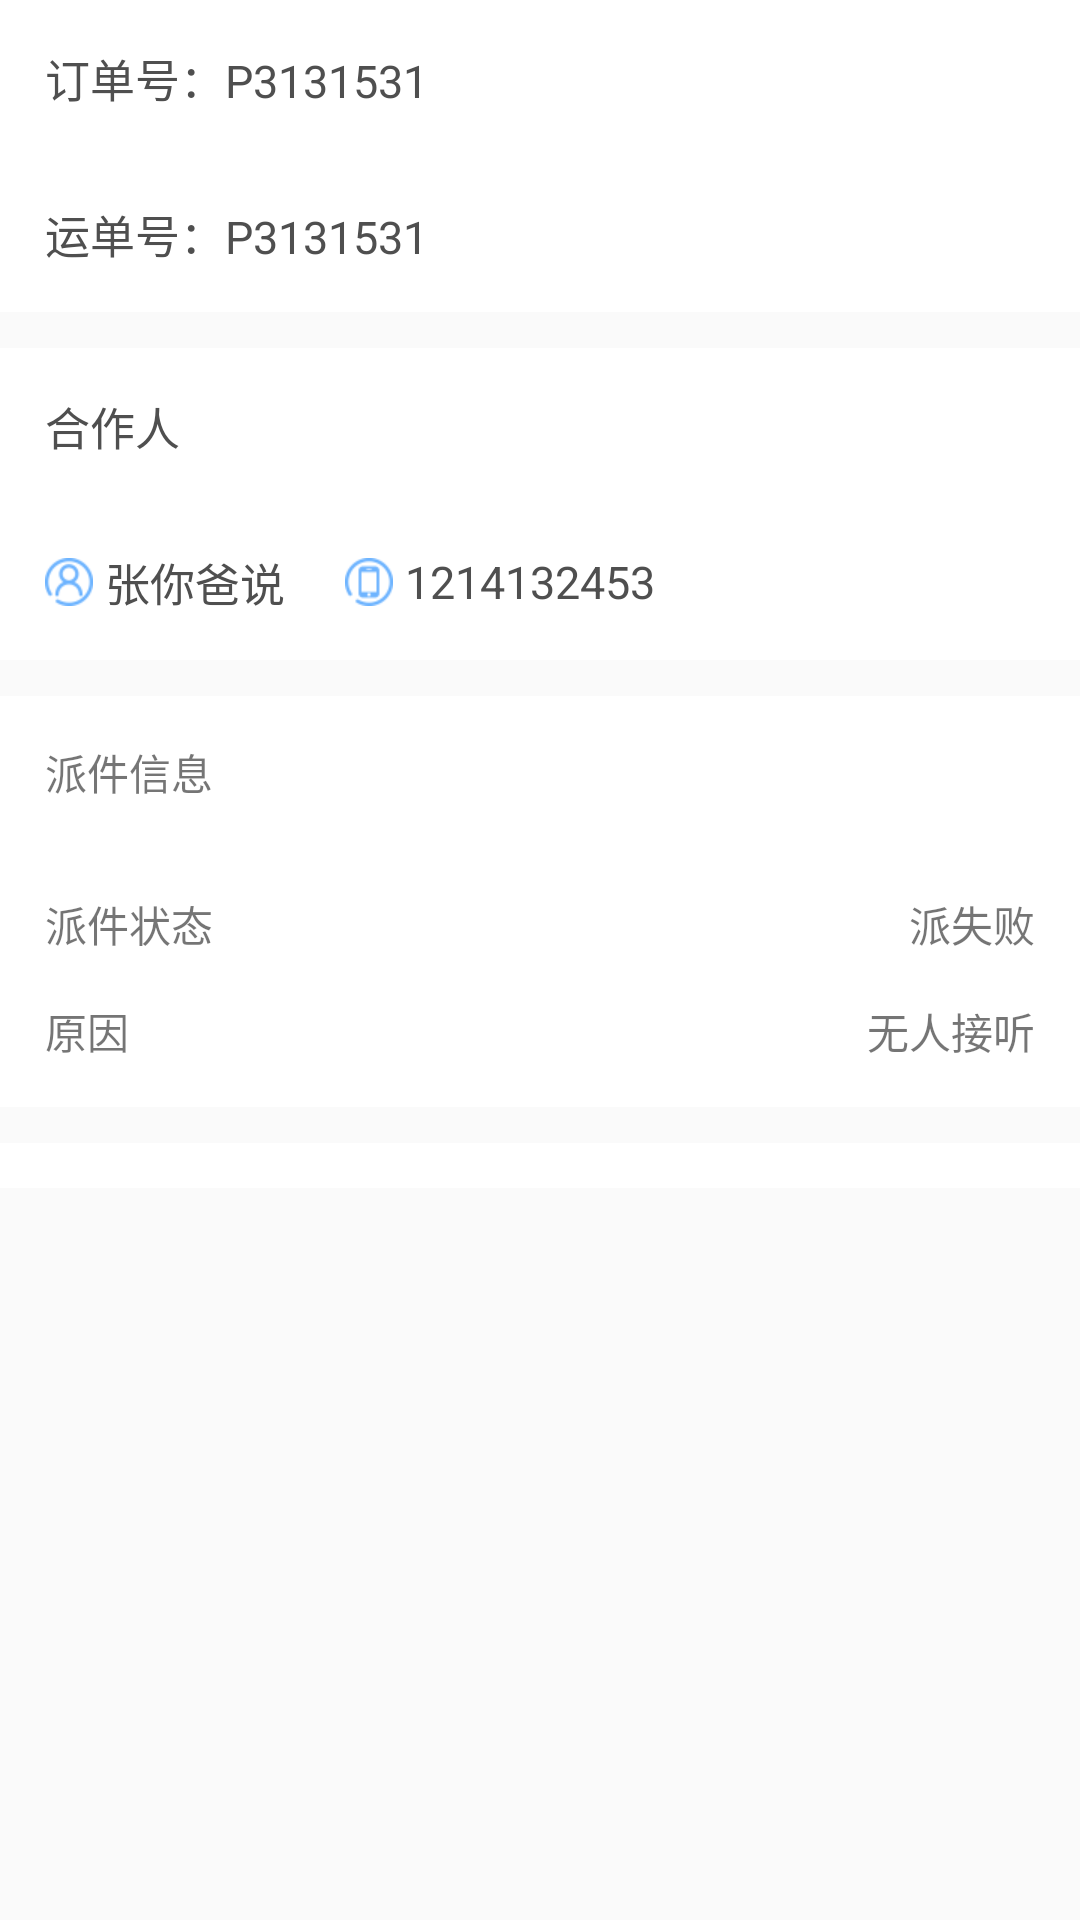

Screen size 1080px x 1920px. Icon name, then its box in pixels as (x1, y1, x2, y2):
orderdetails person: (45, 558, 93, 606)
orderdetails phone: (345, 558, 393, 606)
